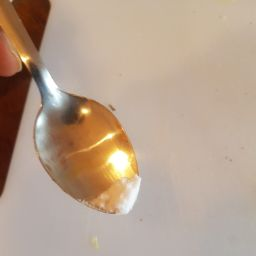Baking powder: (24, 78, 170, 253)
